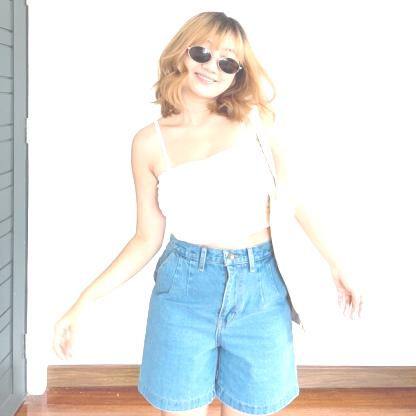jacket: (141, 234, 302, 412), (142, 105, 279, 243)
